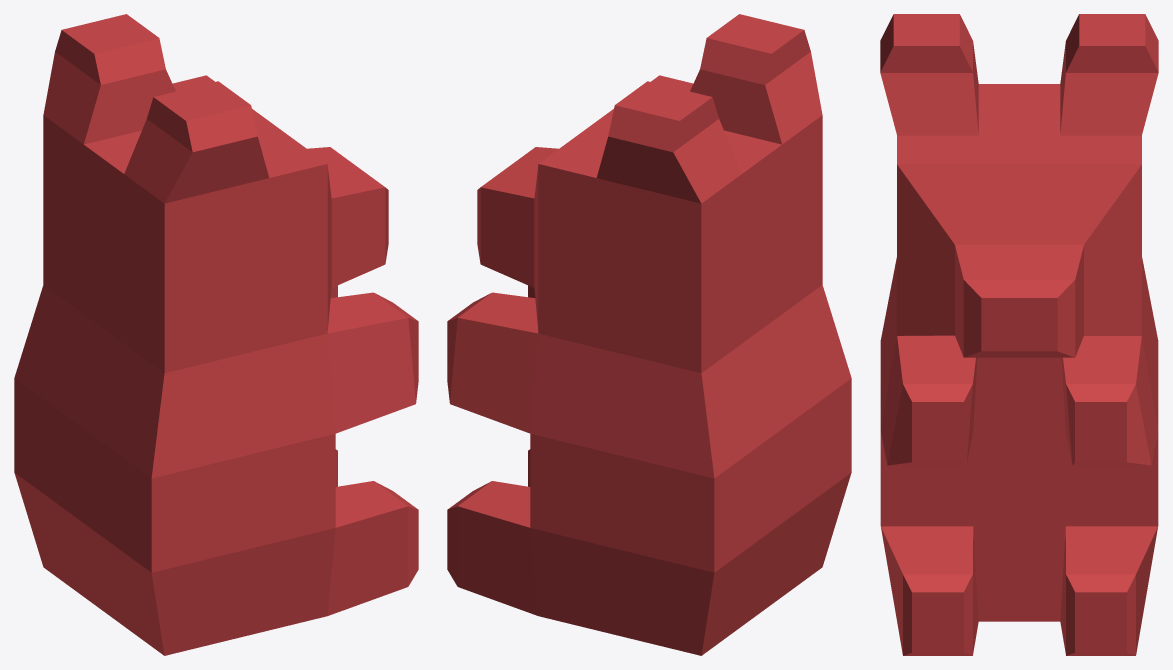
File: 10254c0d-e435-4fbf-9094-99a555b8265e.glb
3 views of the same model, side by side, from view 1: azimuth 30°, elevation 25°; view 2: azimuth 150°, elevation 25°; view 3: azimuth 270°, elevation 25° (orthographic).
Visible parts, largest first — view 1: Cube.011_Cube.023; view 2: Cube.011_Cube.023; view 3: Cube.011_Cube.023.
Part boxes in pixels (x1=…): Cube.011_Cube.023: x1=14, y1=14, x2=418, y2=655; Cube.011_Cube.023: x1=447, y1=14, x2=851, y2=655; Cube.011_Cube.023: x1=880, y1=14, x2=1158, y2=655.
Size of the model in its own units: 0.3099 by 0.5485 by 0.2577.
Materials: 1 (1 with a texture image).
